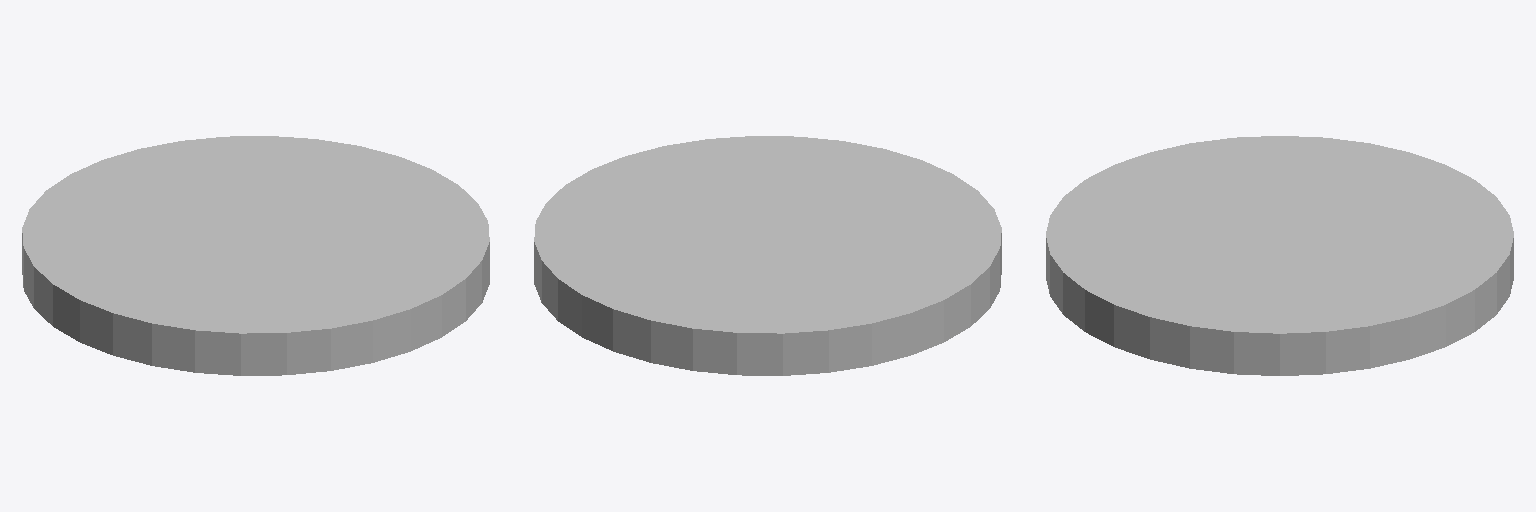
The model's file is DayCounter.obj.
3 views of the same model, side by side, from view 1: azimuth 30°, elevation 25°; view 2: azimuth 150°, elevation 25°; view 3: azimuth 270°, elevation 25° (orthographic).
Parts seen in each view (by area): view 1: Chip_-_1_Point.043_Circle.117; view 2: Chip_-_1_Point.043_Circle.117; view 3: Chip_-_1_Point.043_Circle.117.
Boxes of the visible parts, <box> form: Chip_-_1_Point.043_Circle.117: <box>22,136,489,375</box>; Chip_-_1_Point.043_Circle.117: <box>534,136,1001,375</box>; Chip_-_1_Point.043_Circle.117: <box>1046,136,1513,375</box>.
Bounding box in the file's own units: 2 × 0.2 × 2.